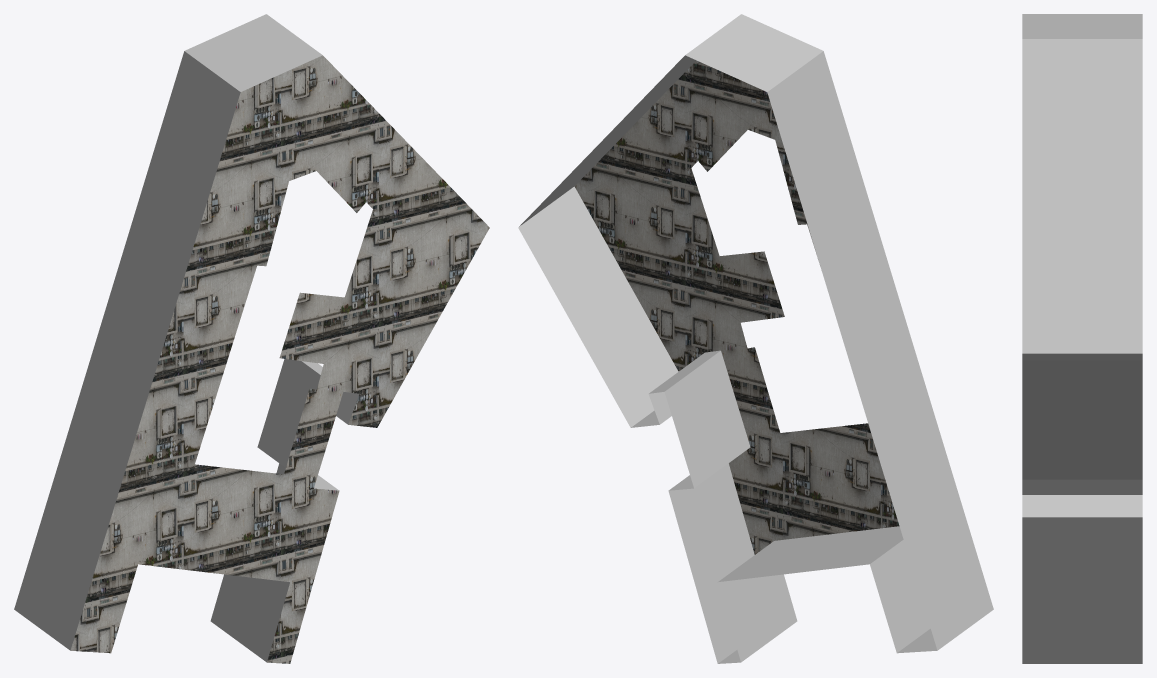
The model's file is geospecific_308.obj.
The picture shows the model from 3 angles, left to right: view 1: azimuth 30°, elevation 25°; view 2: azimuth 150°, elevation 25°; view 3: azimuth 270°, elevation 25°; orthographic projection. The views are drawn at different scales.
Visible parts, largest first — view 1: Building; view 2: Building; view 3: Building.
Part boxes in pixels (bbox=[...]): Building: bbox=[14, 14, 489, 663]; Building: bbox=[518, 14, 993, 663]; Building: bbox=[1022, 14, 1142, 663].
Size of the model in its own units: 64.42 by 88.16 by 15.
